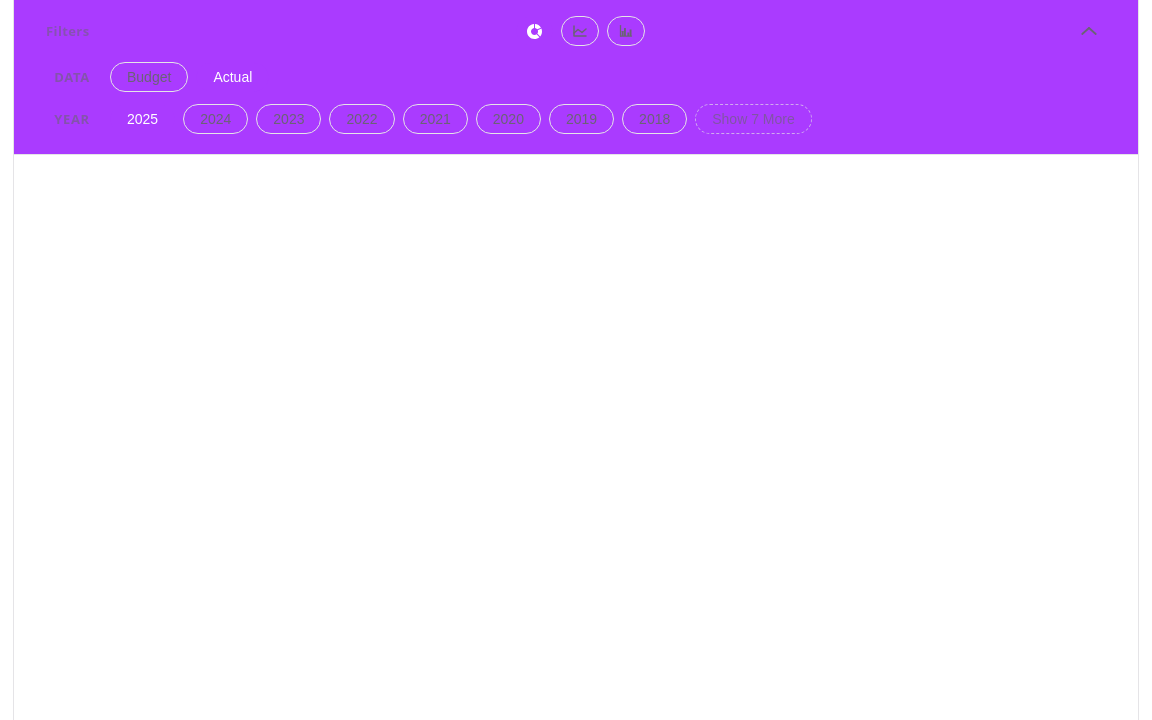
Test: Controls — budget view data mode › shows expand/collapse for audit years in actual mode
Click the button "Show 7 More" at (754, 119), box [695, 104, 812, 134]
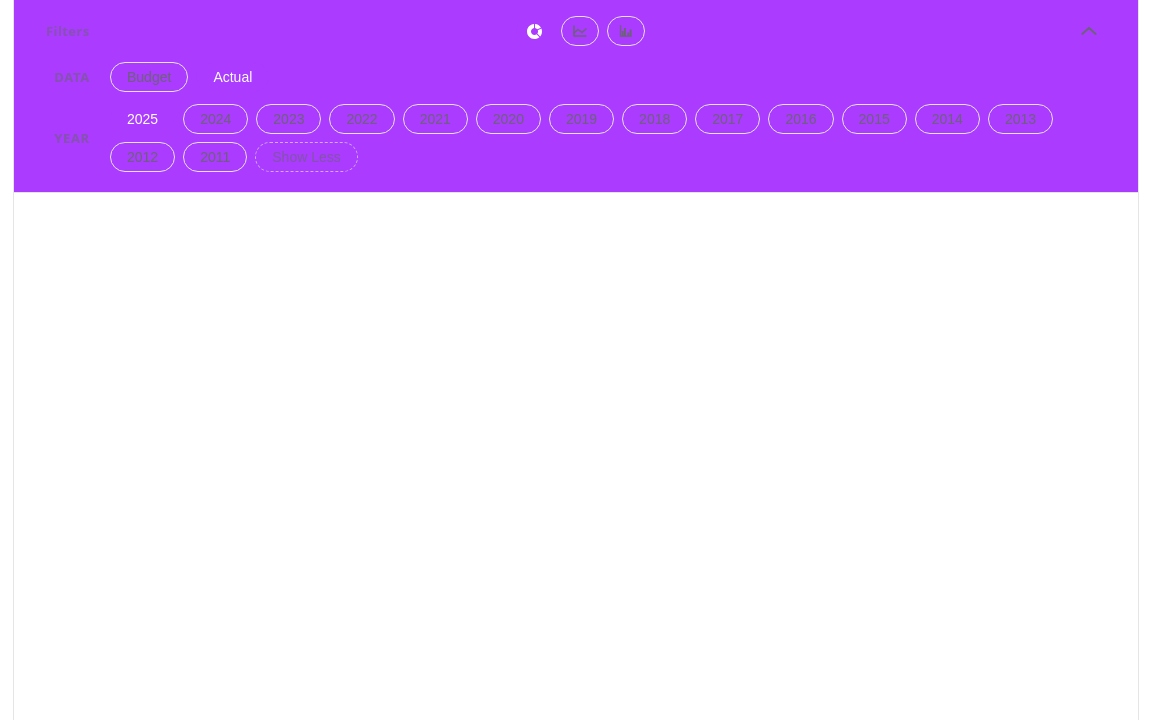
Check: the button "2017" is shown, box [695, 104, 760, 134]
Check: the button "2016" is shown, box [768, 104, 834, 134]
Check: the button "2015" is shown, box [842, 104, 907, 134]
